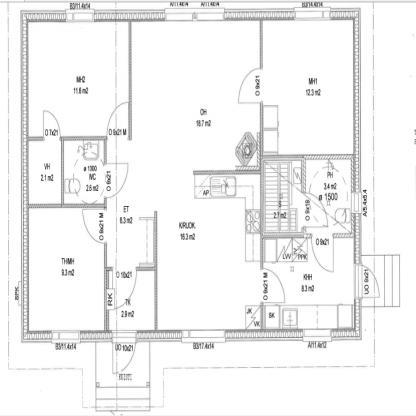bathroom: (62, 137, 106, 206)
door: (109, 263, 142, 311), (110, 325, 138, 377), (78, 205, 112, 247), (258, 265, 288, 312), (309, 230, 338, 275), (237, 62, 266, 106), (99, 160, 130, 200), (353, 262, 382, 304), (301, 191, 330, 230), (105, 100, 132, 141), (42, 107, 65, 145)
perimeter: (21, 9, 363, 342)
window: (161, 5, 229, 26), (178, 324, 231, 348), (48, 325, 84, 351), (63, 6, 100, 31), (291, 5, 334, 26), (301, 324, 335, 349), (348, 190, 362, 216)
